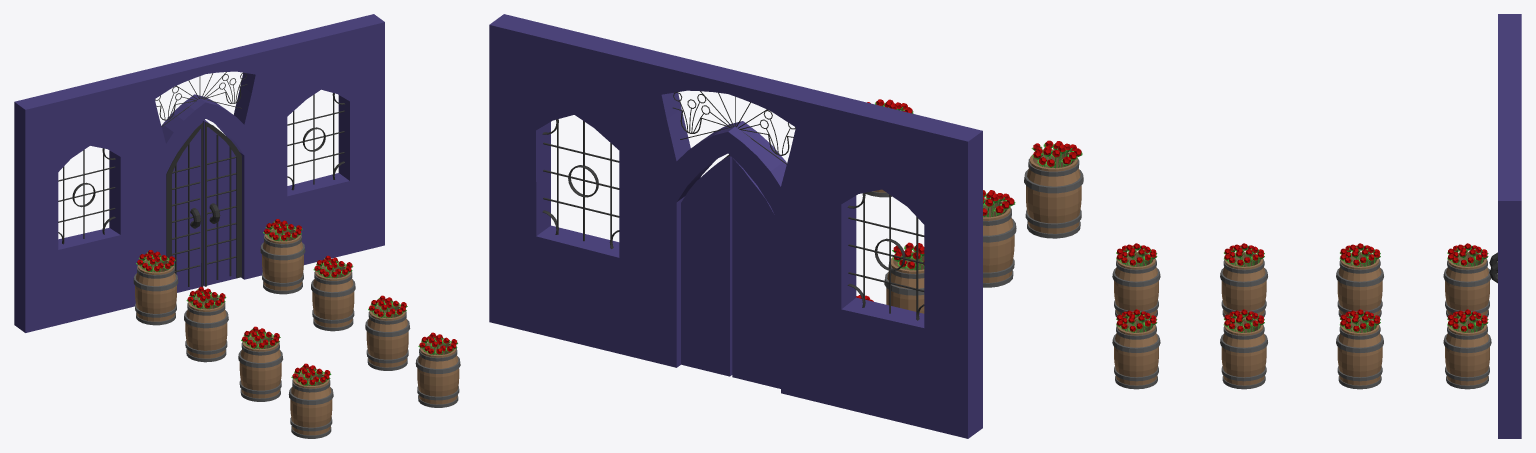
File: Doorway_2.fbx
The picture shows the model from 3 angles, left to right: view 1: azimuth 30°, elevation 25°; view 2: azimuth 150°, elevation 25°; view 3: azimuth 270°, elevation 25°; orthographic projection. The views are drawn at different scales.
Parts seen in each view (by area): view 1: Wall_3, Barels_with_flowers, Right_Door_3, Left_Door_3; view 2: Wall_3, Barels_with_flowers, Right_Door_3, Left_Door_3; view 3: Barels_with_flowers, Wall_3.
Boxes of the visible parts, box(x1,y1,x2,y2) form: Wall_3: box(14, 14, 384, 332); Barels_with_flowers: box(133, 219, 460, 438); Right_Door_3: box(203, 120, 241, 286); Left_Door_3: box(166, 122, 203, 292); Wall_3: box(489, 14, 982, 438); Barels_with_flowers: box(856, 99, 1083, 313); Right_Door_3: box(681, 154, 732, 376); Left_Door_3: box(732, 158, 780, 388); Barels_with_flowers: box(1112, 243, 1491, 389); Wall_3: box(1498, 14, 1521, 438).
Bounding box in the file's own units: 12.06 × 7.21 × 11.15.
